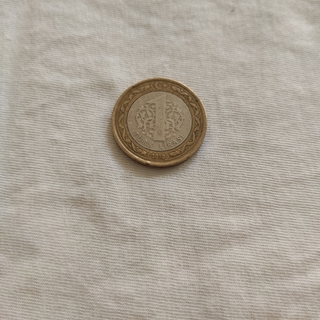1TL: (109, 76, 209, 170)
